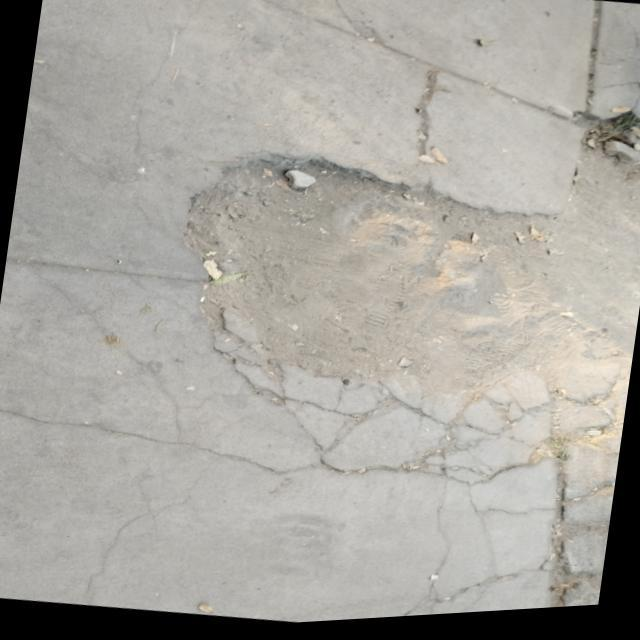hole: (162, 134, 568, 428)
